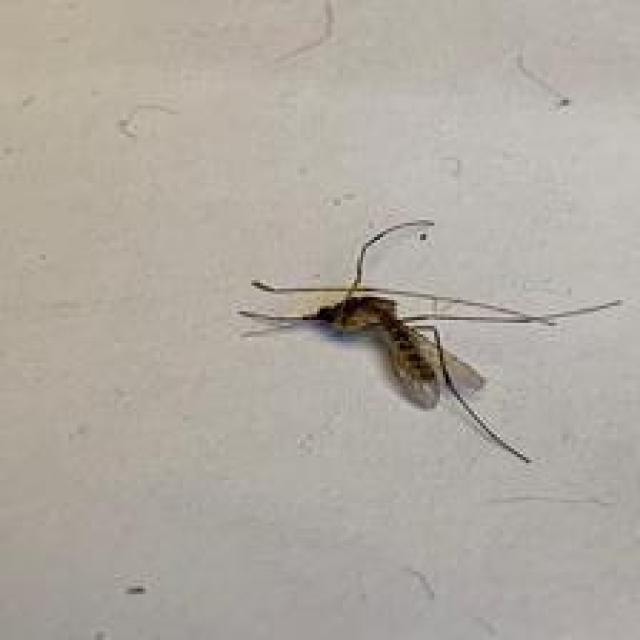Culex: (234, 217, 623, 466)
